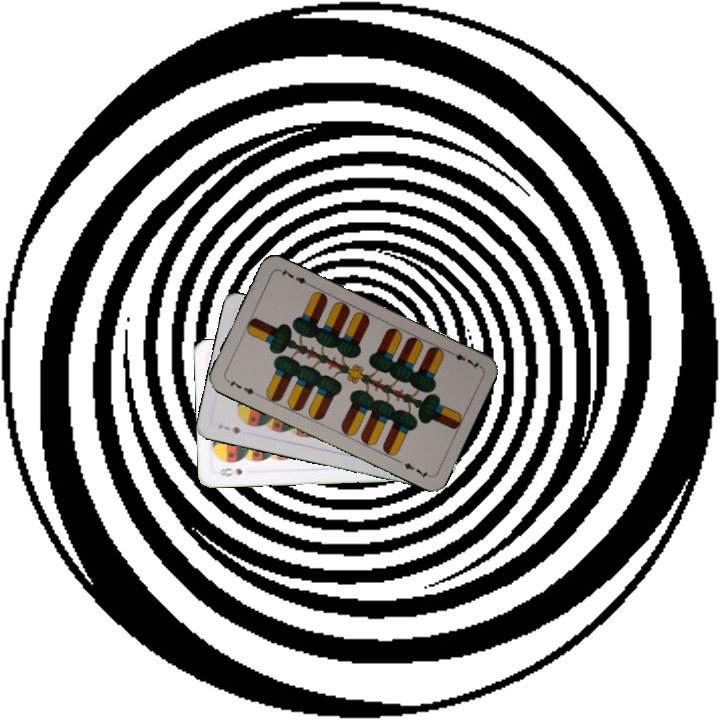E7: (445, 347, 483, 372), (223, 375, 261, 399)
S7: (214, 420, 242, 436)
S8: (213, 463, 245, 479)
